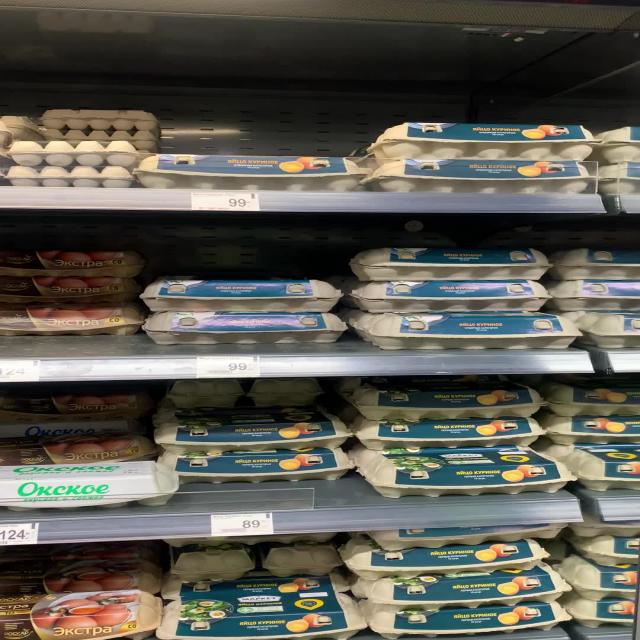egg box: (358, 442, 581, 498), (154, 588, 366, 636), (128, 150, 370, 192), (353, 561, 570, 607), (367, 120, 599, 163), (0, 457, 178, 513), (152, 407, 352, 453), (352, 312, 582, 351), (344, 535, 552, 578), (362, 157, 602, 194), (372, 595, 573, 638), (164, 440, 352, 485), (0, 587, 164, 638), (351, 412, 547, 453), (348, 381, 547, 421), (137, 274, 343, 312), (348, 245, 554, 282), (140, 309, 348, 345), (346, 277, 554, 312), (2, 301, 142, 338), (5, 247, 139, 277), (0, 275, 137, 301)
